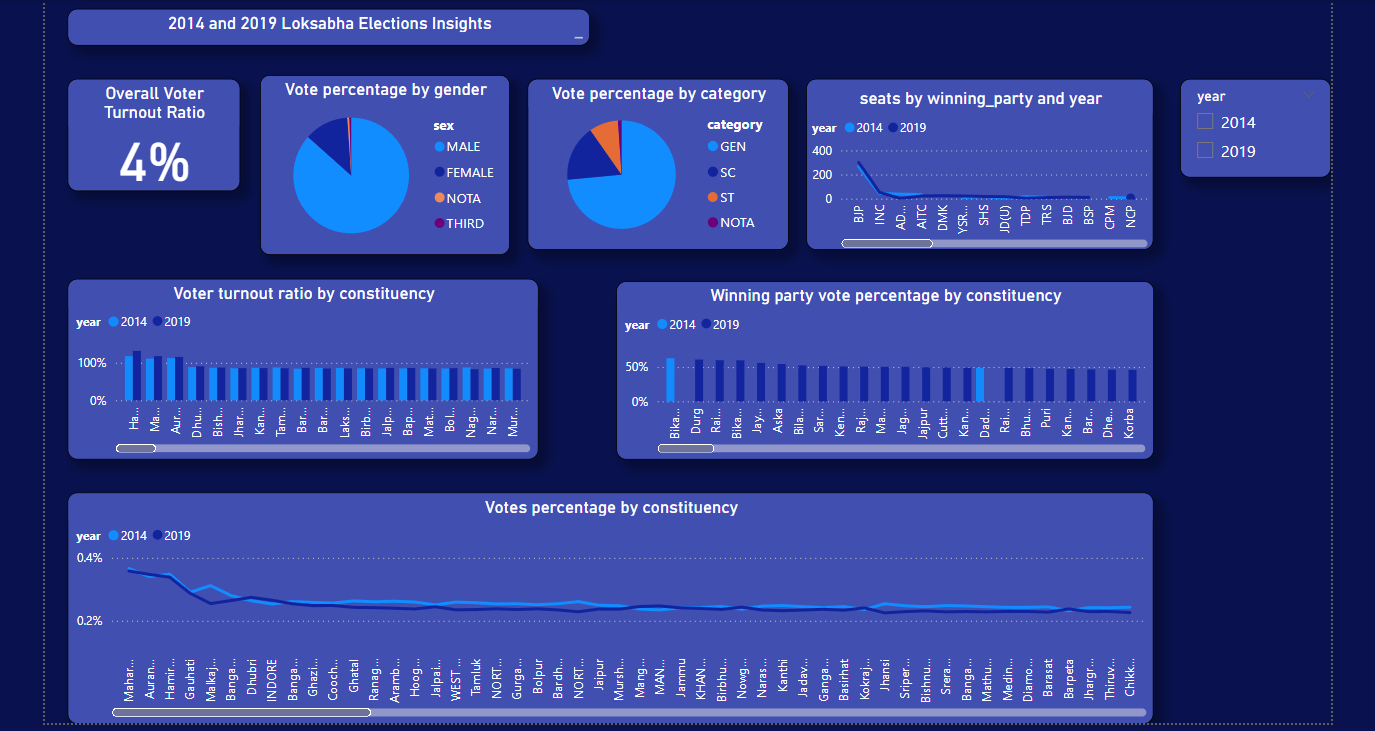

The page's visual inventory and layout, read from the dashboard file:
{"tool":"powerbi","page":{"name":"Page 1","canvas":[1280,720],"ordinal":0},"visuals":[{"type":"card","title":"Overall Voter Turnout Ratio","fields":{"Values":["measures (2).Overall Voter Turnout Ratio"]},"box":[22.4,78.4,171.7,112],"z":0},{"type":"clusteredColumnChart","title":"Voter turnout ratio by constituency ","fields":{"Category":["constituency_wise_results_2014_2019.pc_name"],"Series":["constituency_wise_results_2014_2019.year"],"Y":["measures (2).voter_turnout_ratio"]},"box":[22.4,277.4,469,180.4],"z":1000},{"type":"pieChart","title":"Vote percentage by gender","fields":{"Category":["constituency_wise_results_2014_2019.sex"],"Y":["Sum(constituency_wise_results_2014_2019.total_votes)"]},"box":[214,74.6,248.8,179.1],"z":2000},{"type":"clusteredColumnChart","title":"Winning party vote percentage by constituency","fields":{"Category":["constituency_wise_results_2014_2019.pc_name"],"Y":["measures (2).winning_votes_percentage"],"Series":["constituency_wise_results_2014_2019.year"]},"box":[568.5,279.9,534.9,177.9],"z":3000},{"type":"pieChart","title":"Vote percentage by category","fields":{"Category":["constituency_wise_results_2014_2019.category"],"Y":["measures (2).Measure 2"]},"box":[480.2,78.4,260,170.4],"z":4000},{"type":"lineChart","title":"Votes percentage by constituency ","fields":{"Category":["constituency_wise_results_2014_2019.pc_name"],"Y":["measures (2).votes_percentage"],"Series":["constituency_wise_results_2014_2019.year"]},"box":[22,489.9,469.3,230.5],"z":5000},{"type":"textbox","title":"2014 and 2019 Loksabha Elections Insights","box":[22,8.2,520.1,37],"z":7000},{"type":"slicer","fields":{"Values":["constituency_wise_results_2014_2019.year"]},"box":[1129.5,78.4,150.5,98.3],"z":8000},{"type":"lineChart","fields":{"Y":["measures (2).seats"],"Series":["constituency_wise_results_2014_2019.year"],"Category":["constituency_wise_results_2014_2019.winning_party"]},"box":[757.6,78.4,345.8,170.4],"z":9000},{"type":"tableEx","fields":{"Values":["SamePartyConstituenciesTable.pc_name","SamePartyConstituenciesTable.WinningParty2014","SamePartyConstituenciesTable.WinningParty2019"]},"box":[568.5,489.9,534.9,230.1],"z":9001}]}

Visuals, with their boxes in screenshot pixels (x1, y1, x2, y2):
"Overall Voter Turnout Ratio" card: detection(65, 75, 237, 187)
"Voter turnout ratio by constituency " clusteredColumnChart: detection(65, 274, 535, 454)
"Vote percentage by gender" pieChart: detection(257, 71, 506, 250)
"Winning party vote percentage by constituency" clusteredColumnChart: detection(612, 276, 1147, 454)
"Vote percentage by category" pieChart: detection(523, 75, 784, 245)
"Votes percentage by constituency " lineChart: detection(65, 487, 535, 717)
"2014 and 2019 Loksabha Elections Insights" textbox: detection(65, 5, 585, 42)
slicer - constituency_wise_results_2014_2019.year: detection(1173, 75, 1324, 173)
lineChart - measures (2).seats x constituency_wise_results_2014_2019.year: detection(801, 75, 1147, 245)
tableEx - SamePartyConstituenciesTable.pc_name x SamePartyConstituenciesTable.WinningParty2014: detection(612, 487, 1147, 717)
